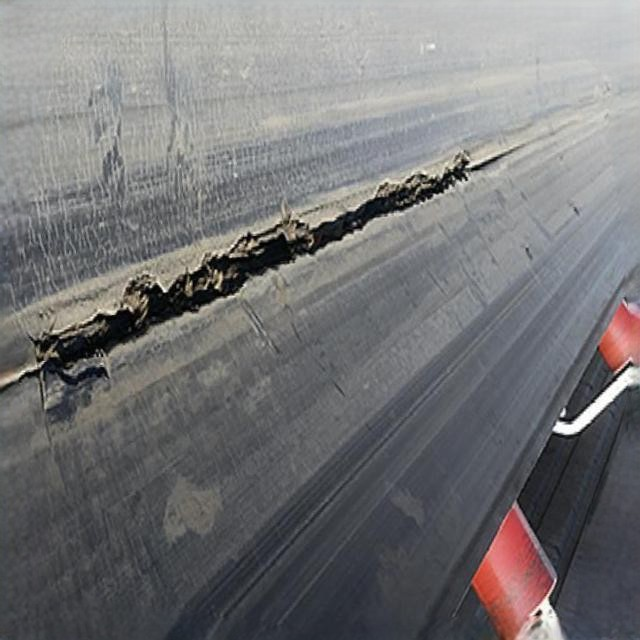Tear: (0, 136, 528, 413)
